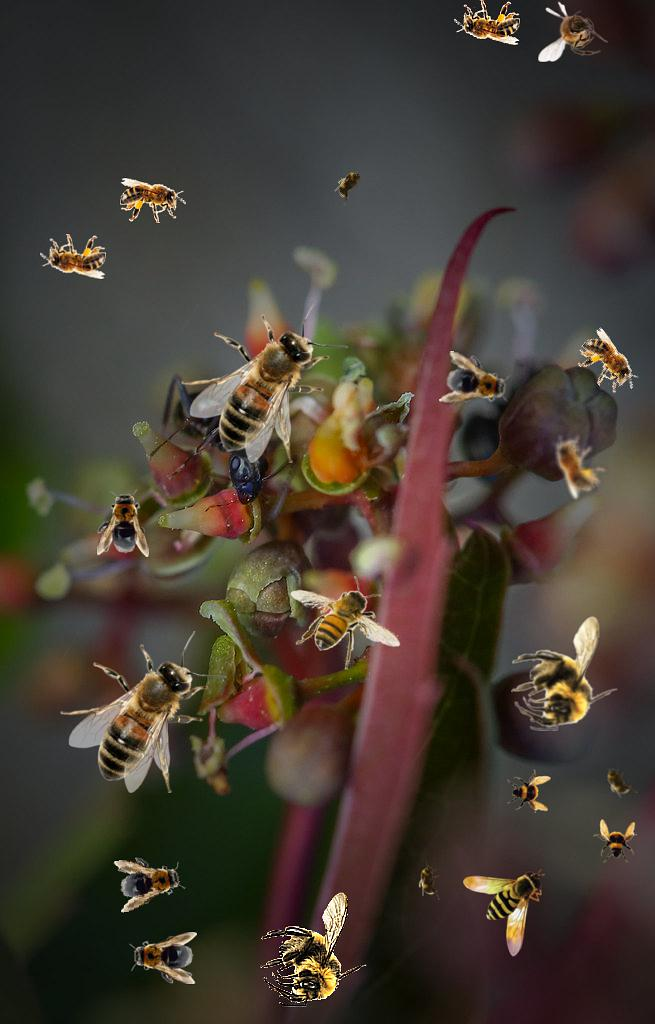Bee: (60, 631, 227, 793), (181, 301, 348, 463), (260, 892, 367, 1007), (511, 616, 618, 731), (290, 576, 401, 670), (463, 869, 545, 957), (569, 325, 649, 404), (539, 422, 613, 503), (111, 848, 189, 914), (439, 350, 515, 414), (538, 1, 608, 62), (129, 932, 197, 984), (97, 489, 149, 557), (40, 234, 106, 279), (454, 0, 520, 45), (120, 178, 186, 223), (328, 161, 372, 207), (593, 819, 637, 863), (507, 769, 551, 813), (598, 758, 638, 804), (418, 860, 440, 900)
